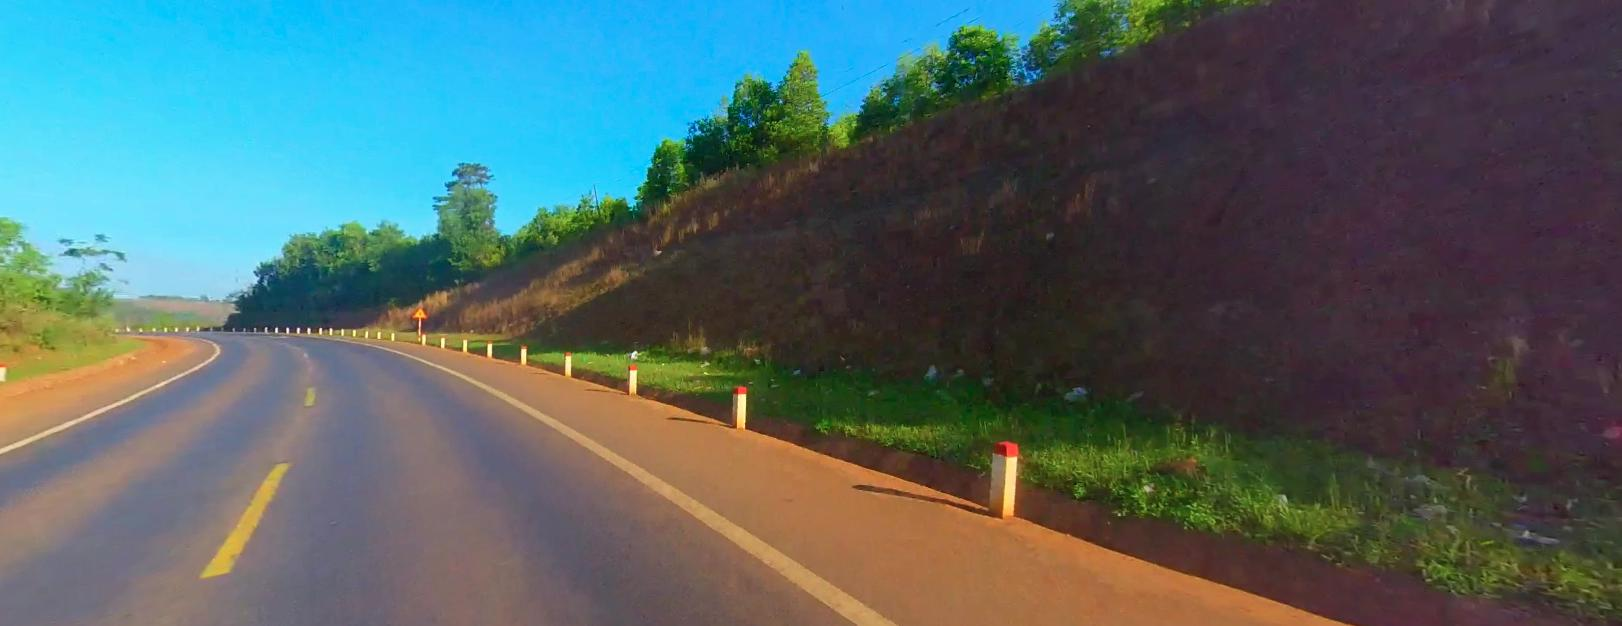Nguy hiem: (412, 305, 426, 316), (412, 306, 426, 317), (412, 305, 425, 316)
